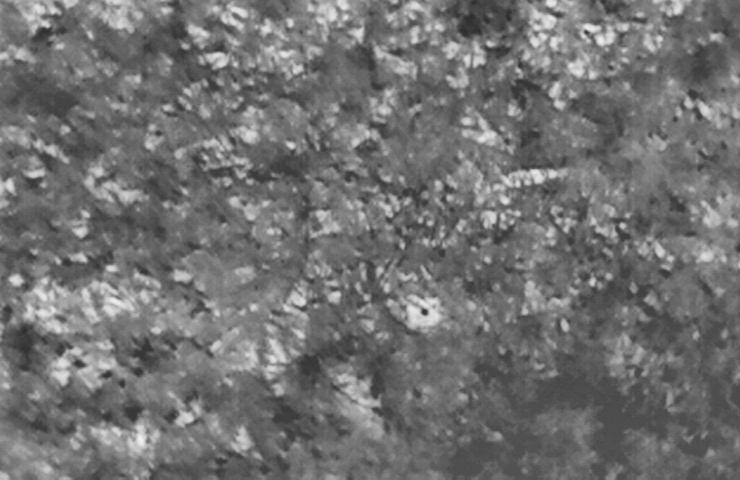landmines: (403, 293, 445, 332)
